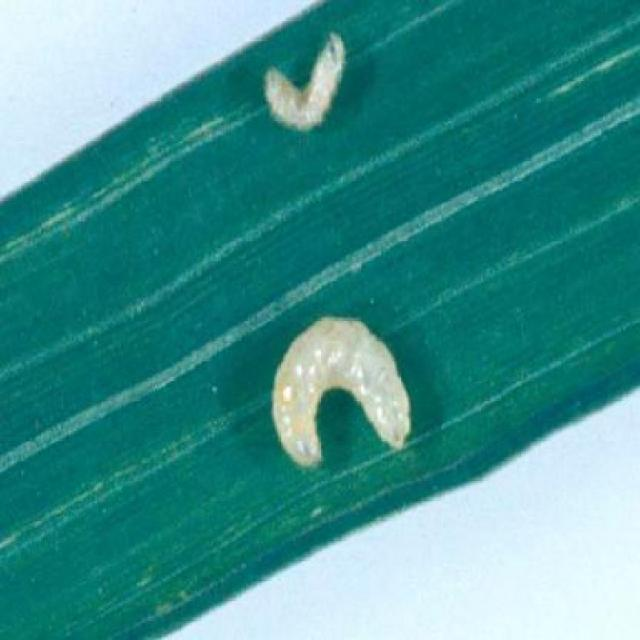whorl-maggot: (265, 303, 417, 480), (255, 22, 357, 138)
